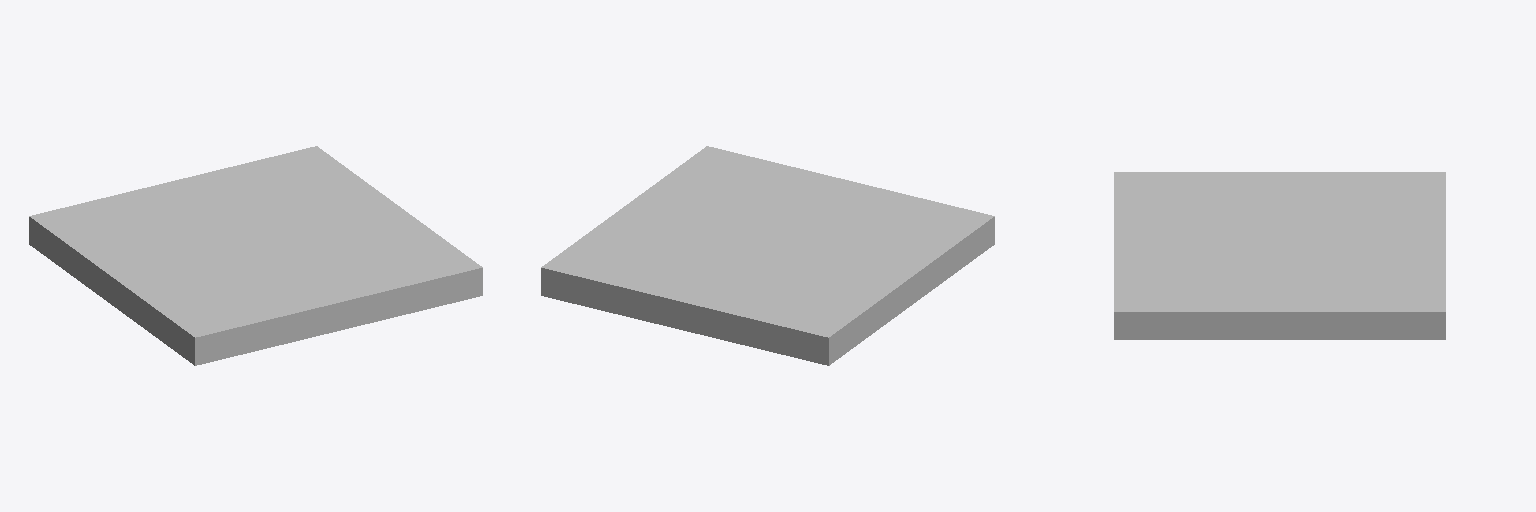
File: water.obj
The picture shows the model from 3 angles: view 1: azimuth 30°, elevation 25°; view 2: azimuth 150°, elevation 25°; view 3: azimuth 270°, elevation 25°; orthographic projection.
Visible parts, largest first — view 1: object 1; view 2: object 1; view 3: object 1.
Boxes of the visible parts, x1,y1,x2,y2 form: object 1: [29, 146, 482, 365]; object 1: [541, 146, 994, 365]; object 1: [1114, 172, 1445, 339].
Bounding box in the file's own units: 3.2 × 0.3 × 3.2.